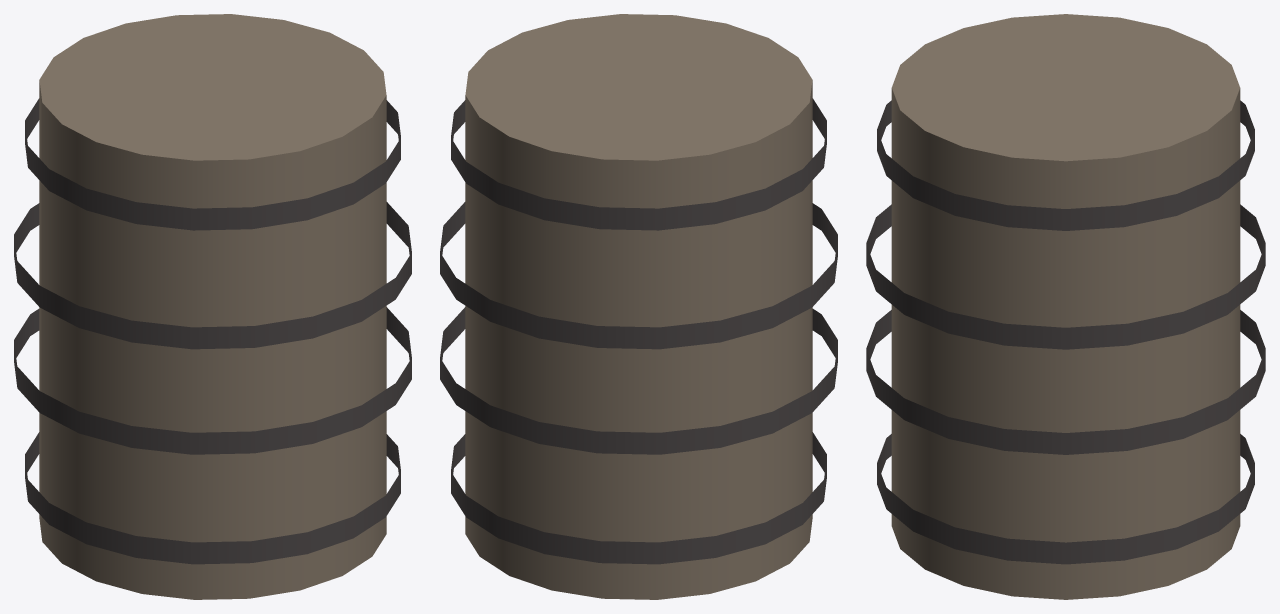
The model's file is barrel.glb.
The picture shows the model from 3 angles, left to right: view 1: azimuth 30°, elevation 25°; view 2: azimuth 150°, elevation 25°; view 3: azimuth 270°, elevation 25°; orthographic projection.
Visible parts, largest first — view 1: barrel; view 2: barrel; view 3: barrel.
Part boxes in pixels (left/top/right/bottom): barrel: left=14, top=14, right=411, bottom=599; barrel: left=440, top=14, right=837, bottom=599; barrel: left=866, top=14, right=1265, bottom=599.
Size of the model in its own units: 0.8254 by 1 by 0.8254.
